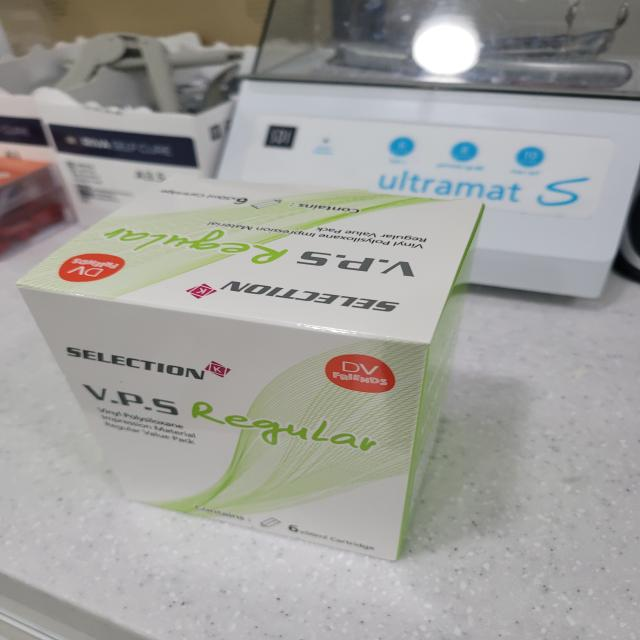impression: (9, 161, 556, 589)
